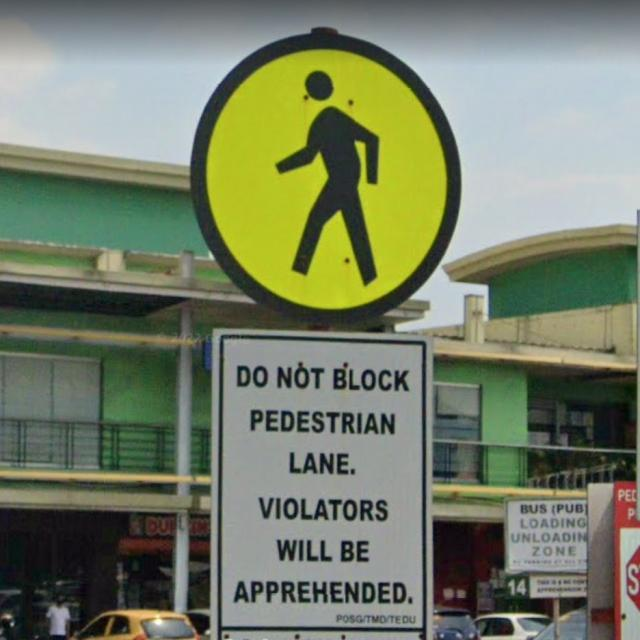pedestrian crossing: (191, 34, 462, 323)
